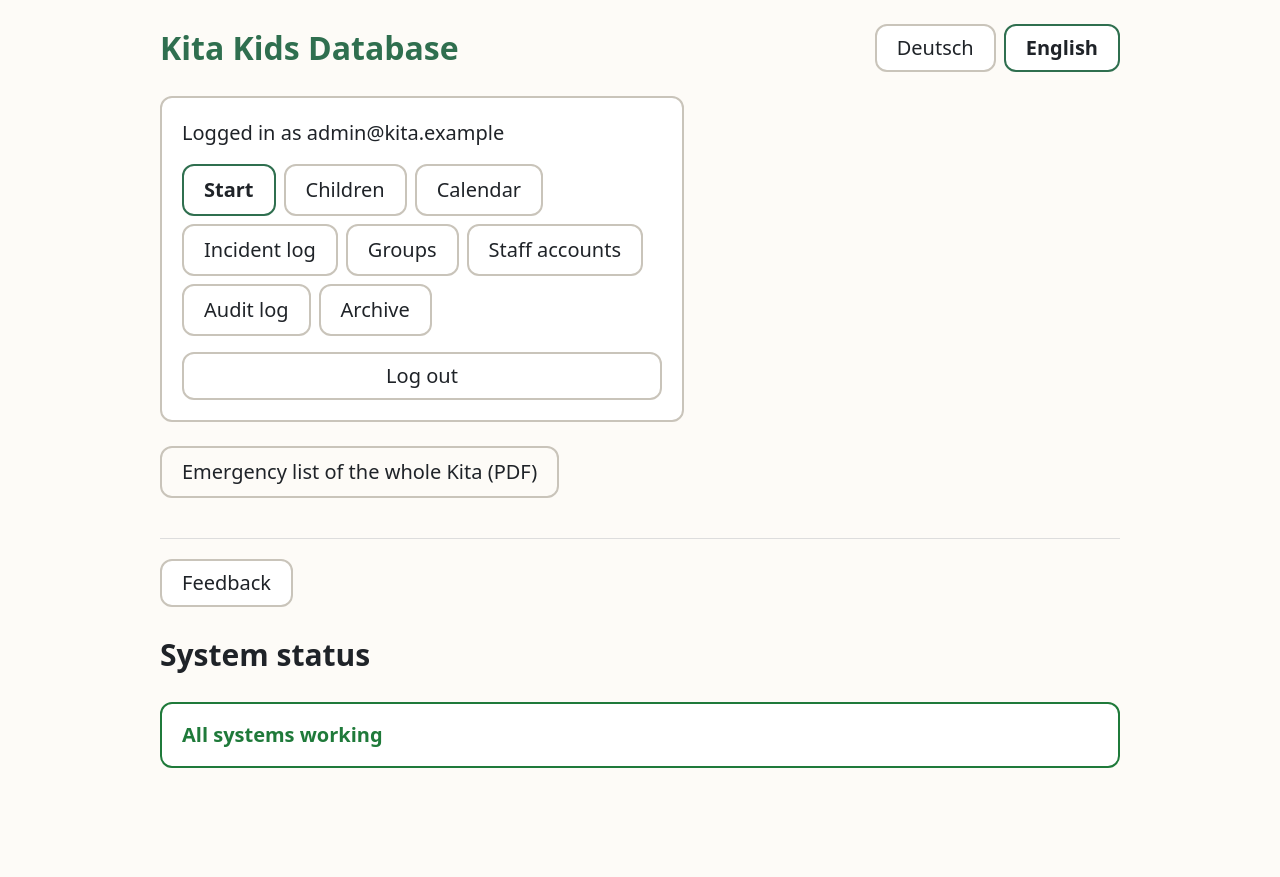
Test case: Archive › lets an Admin restore a deleted Child profile
Step 1. Click the link "Archive" → (375, 310), box [319,284,432,336]
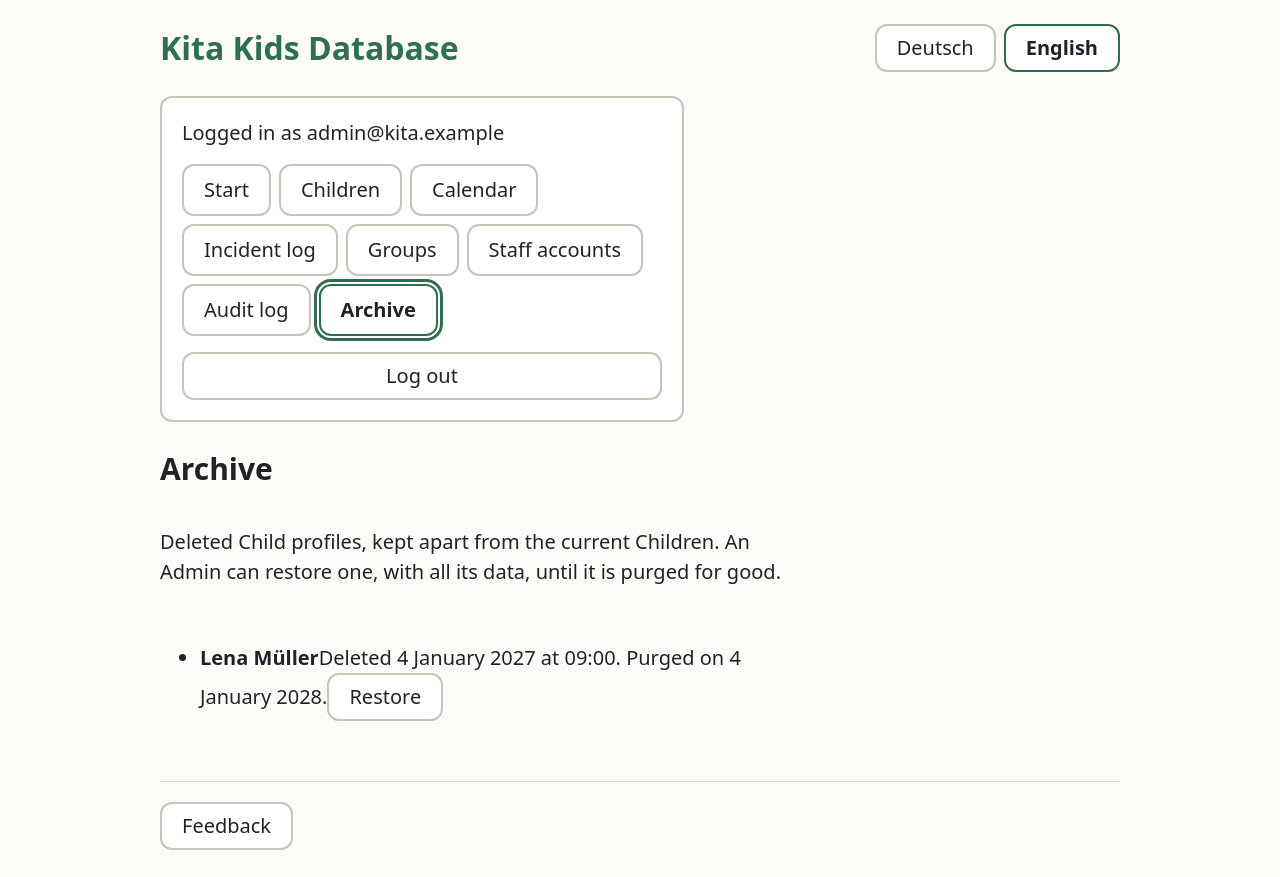
Result: the list item shows "Lena Müller" at [200,644,319,671]
Step 2. Click the button with aria-label "Restore Lena Müller" → (385, 697), box [327,673,443,721]
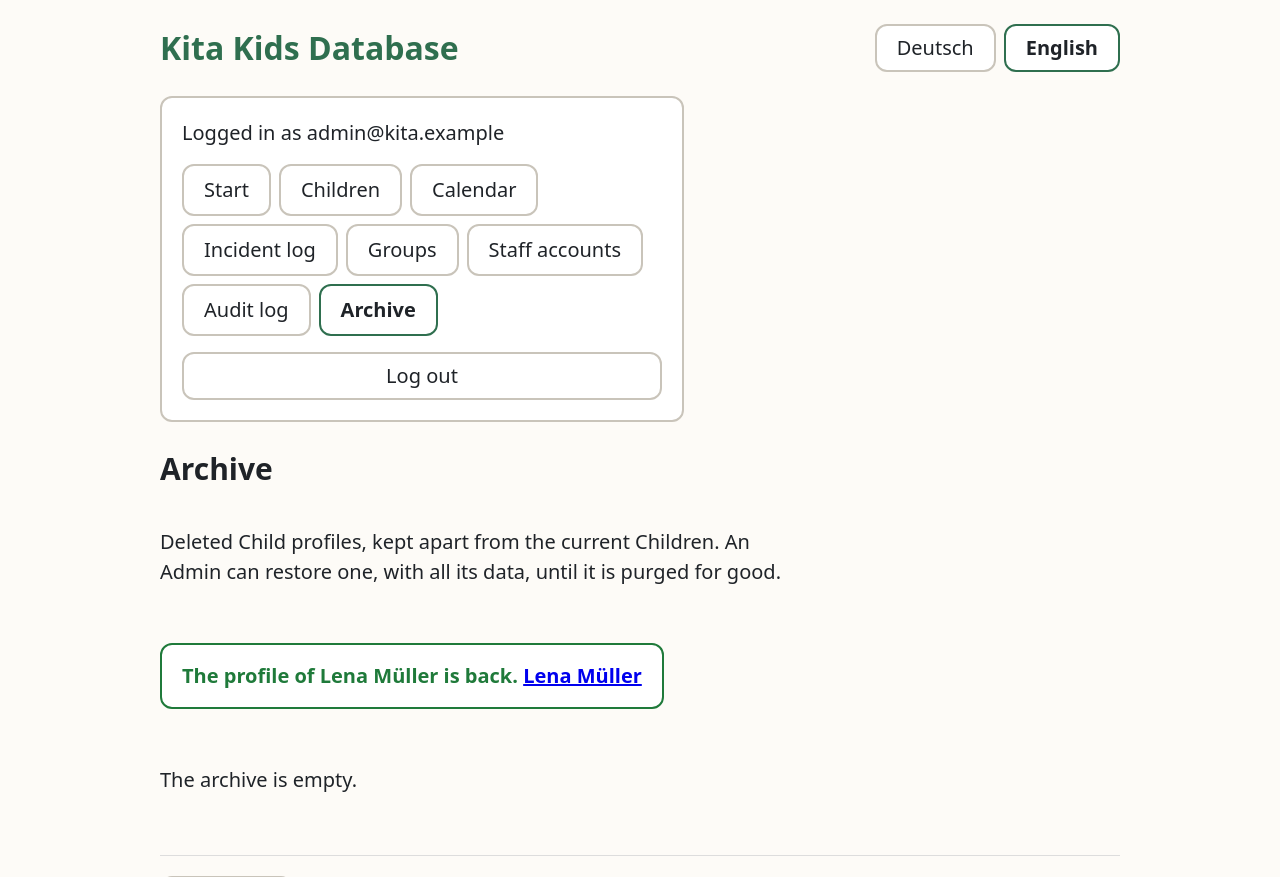
Result: the message shows "The profile of Lena Müller is back." at [182,662,518,689]
Result: the text "The archive is empty." is shown at [160,765,357,795]
